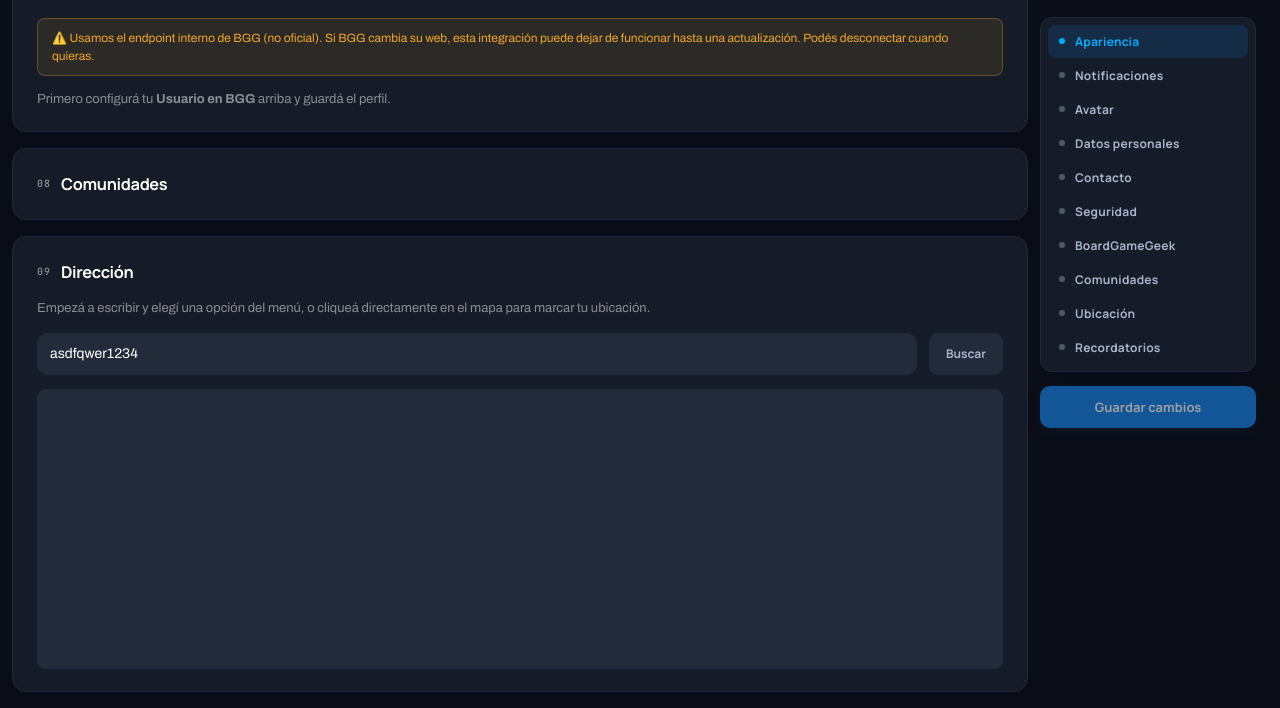
it: UserProfile — Dirección (Google Maps) › shows a friendly error when /api/geocode returns 404
The image size is (1280, 708).
(page scrolled)
Click the button "Buscar": (966, 354) [929,333,1003,375]
(page scrolled)
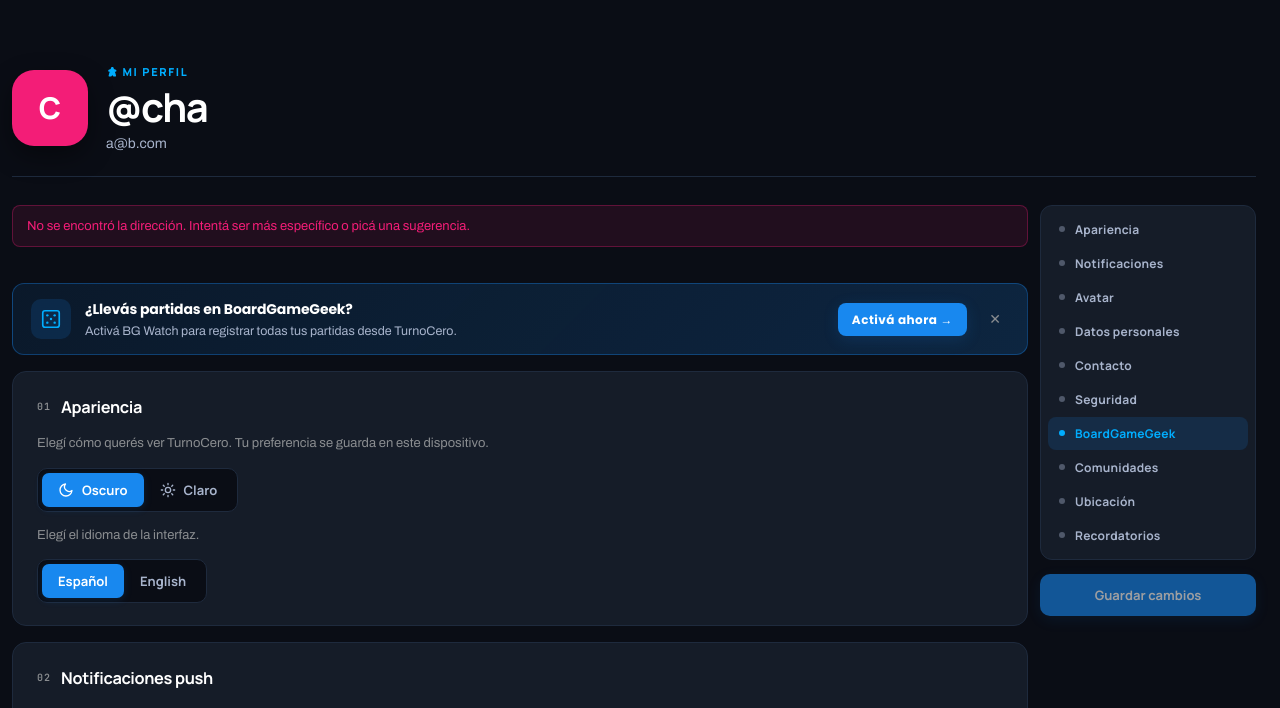
Check: the text "No se encontró la dirección" is shown, box [27,219,470,233]
